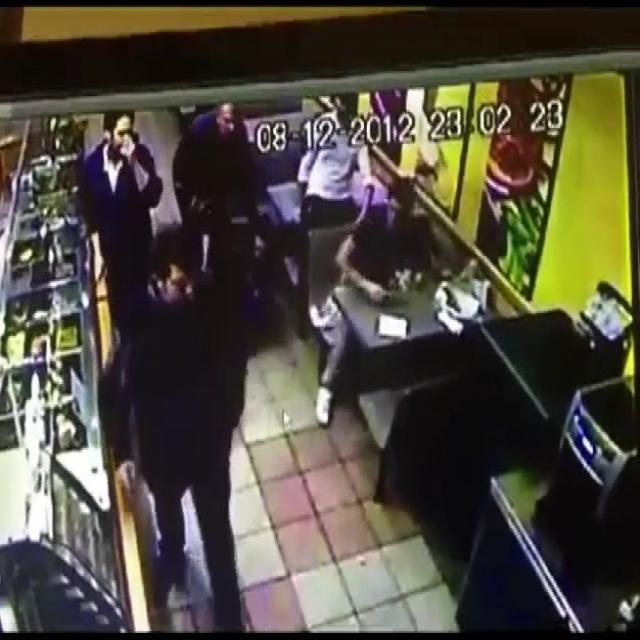fight: (104, 226, 247, 640)
